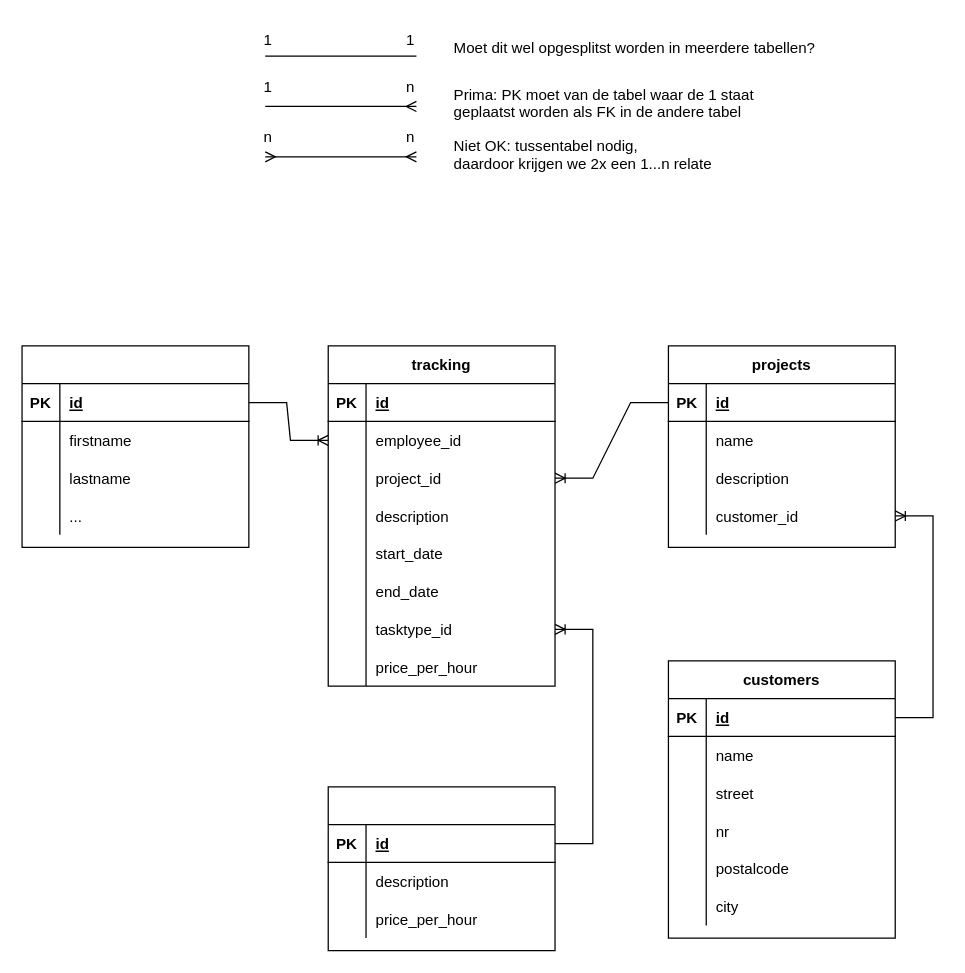
Image size: 965x973. Some labels were removed from this diagram. The box of each missing label's shape, as (x1, y1, x2, y2) in pixels:
employees: (21, 345, 249, 547)
tasktypes: (327, 786, 555, 951)
